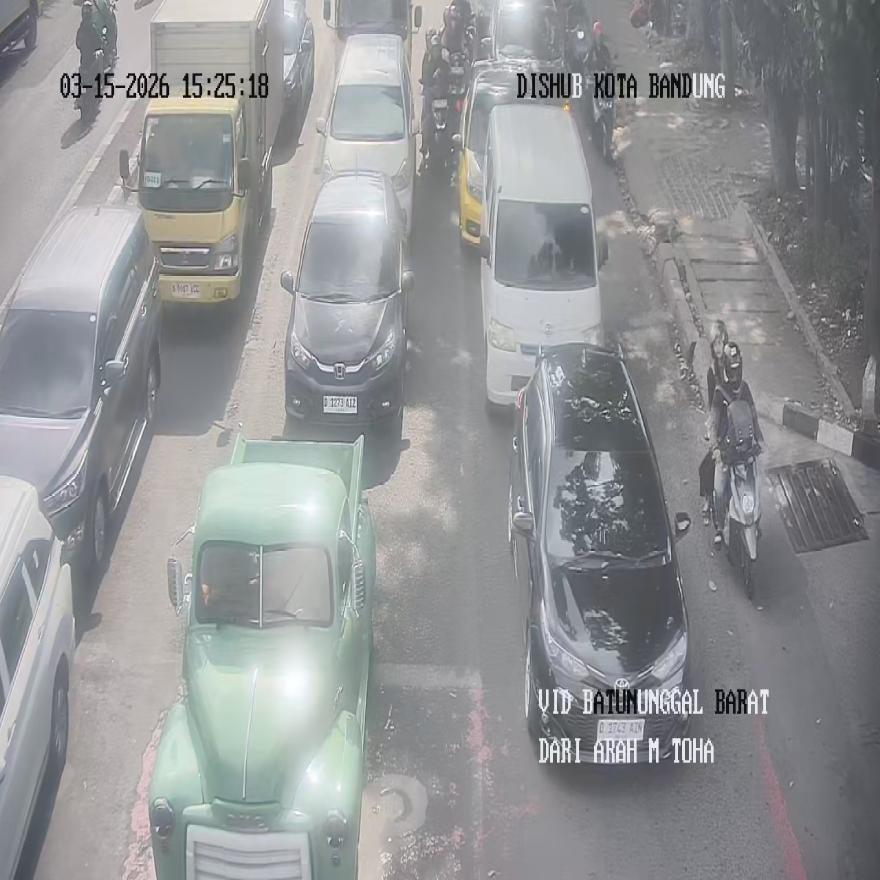Bis: (477, 99, 608, 409)
Motor: (147, 435, 375, 879), (505, 342, 696, 763), (0, 204, 162, 572), (281, 170, 414, 436), (316, 33, 419, 237)
Truk: (720, 443, 761, 598), (423, 67, 455, 173), (587, 78, 615, 163), (75, 51, 104, 124), (428, 97, 455, 174), (449, 53, 470, 133), (565, 27, 589, 80), (449, 51, 470, 98)
